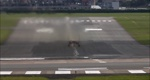maybay_muctieu: (62, 33, 87, 48)
